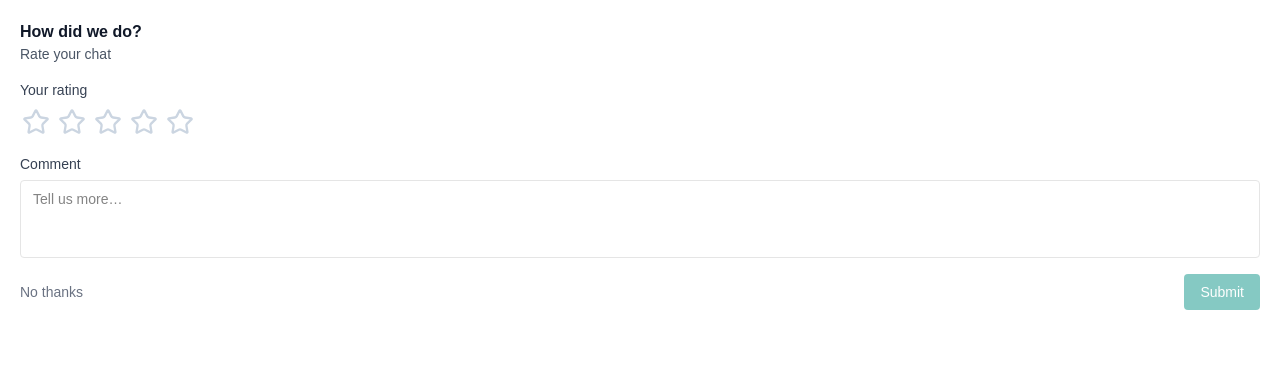
Test: CsatPanel › Submit_ShouldReachErrorState_WhenCaptureFails
Click the radio button with test id "webchat-csat-star-2" at (72, 122), box [56,106,88,138]
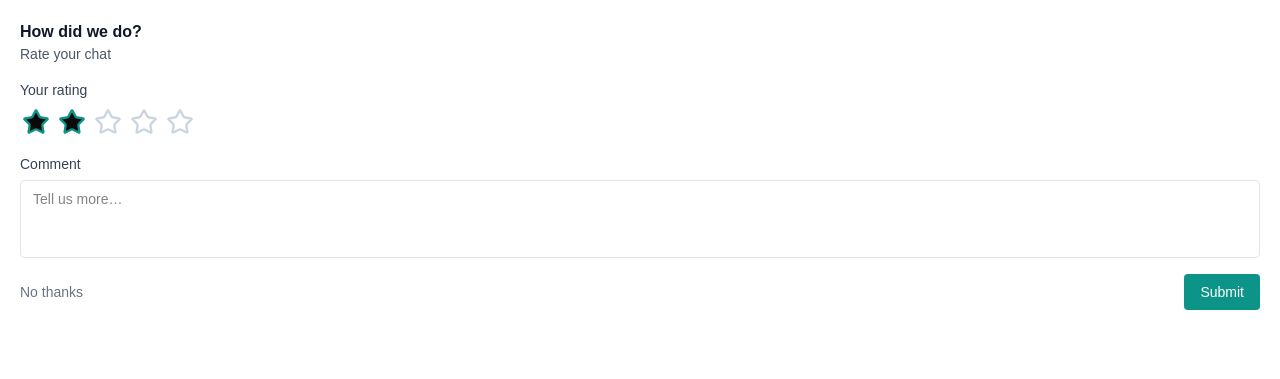
Click the button with test id "webchat-csat-submit" at (1222, 292), box [1184,274,1260,310]
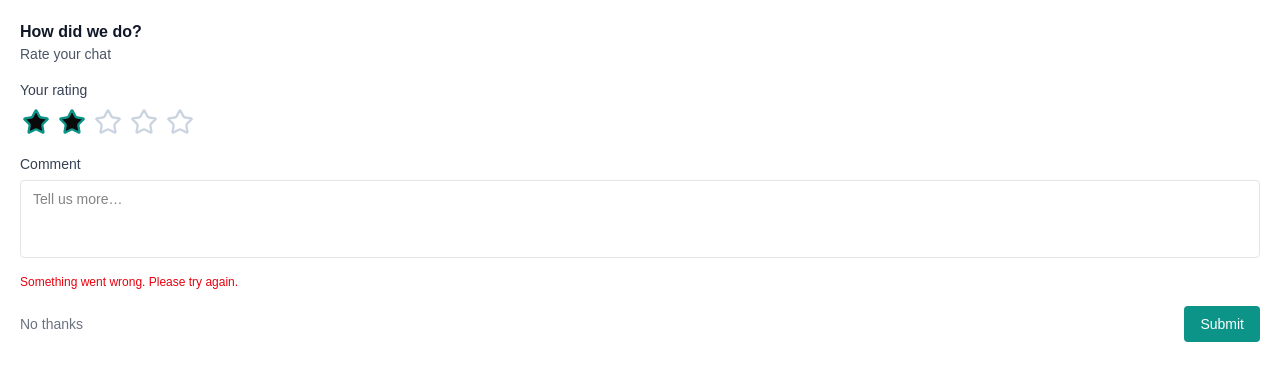
expect the message "Something went wrong. Please try again." is shown: met, box [20,275,238,289]
